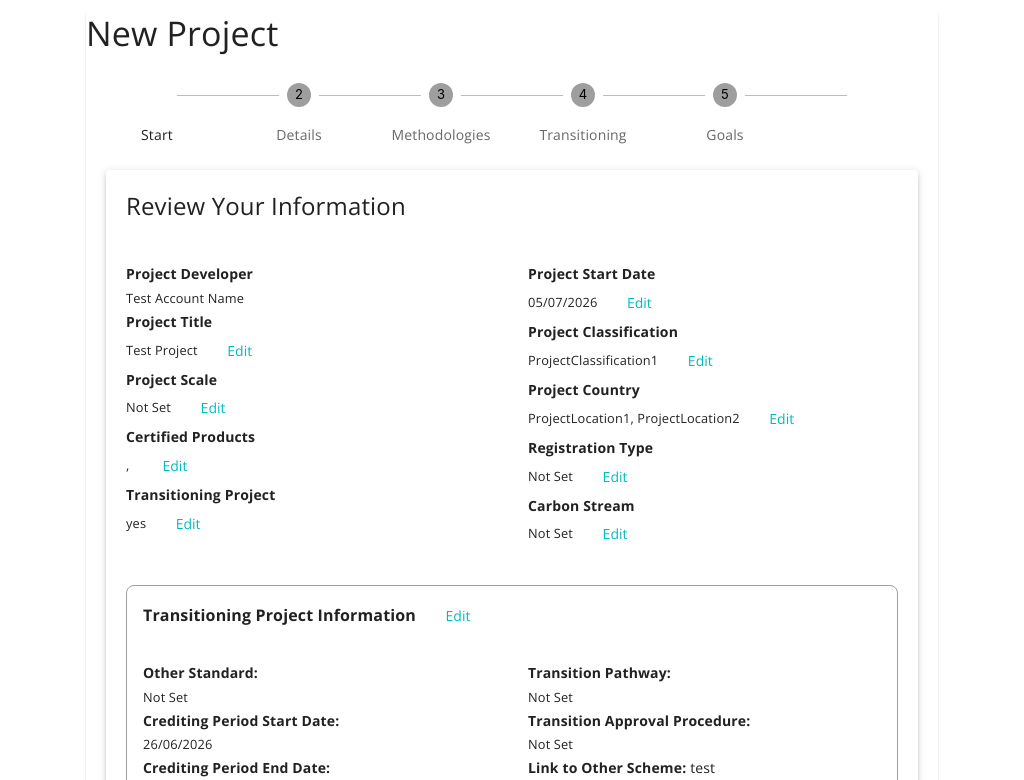
it: CreateProject › when edit field is clicked correct step is displayed {"id":"Project Title","expectedText":"Project Title*"}
Check: the heading "Review Your Information" is shown, box [126,189,406,222]
Click the button with test id "Project Title".
click(240, 351)  # box [208,337,272,365]
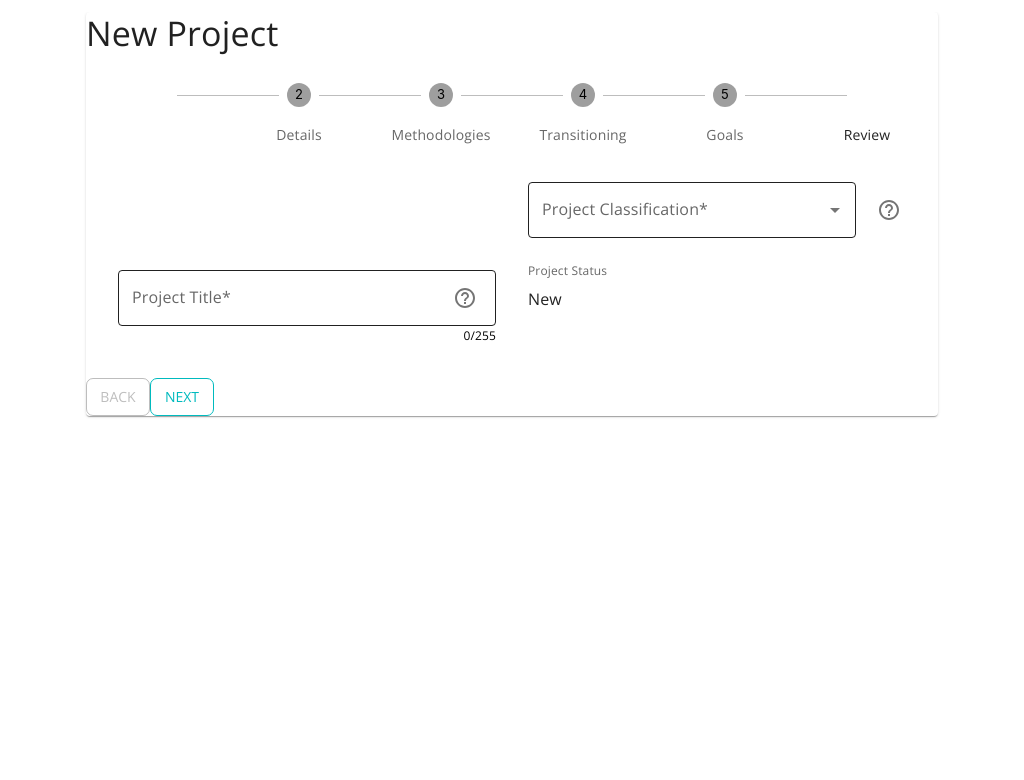
Check: the field labelled "Project Title*" is shown, box [118,270,448,326]
